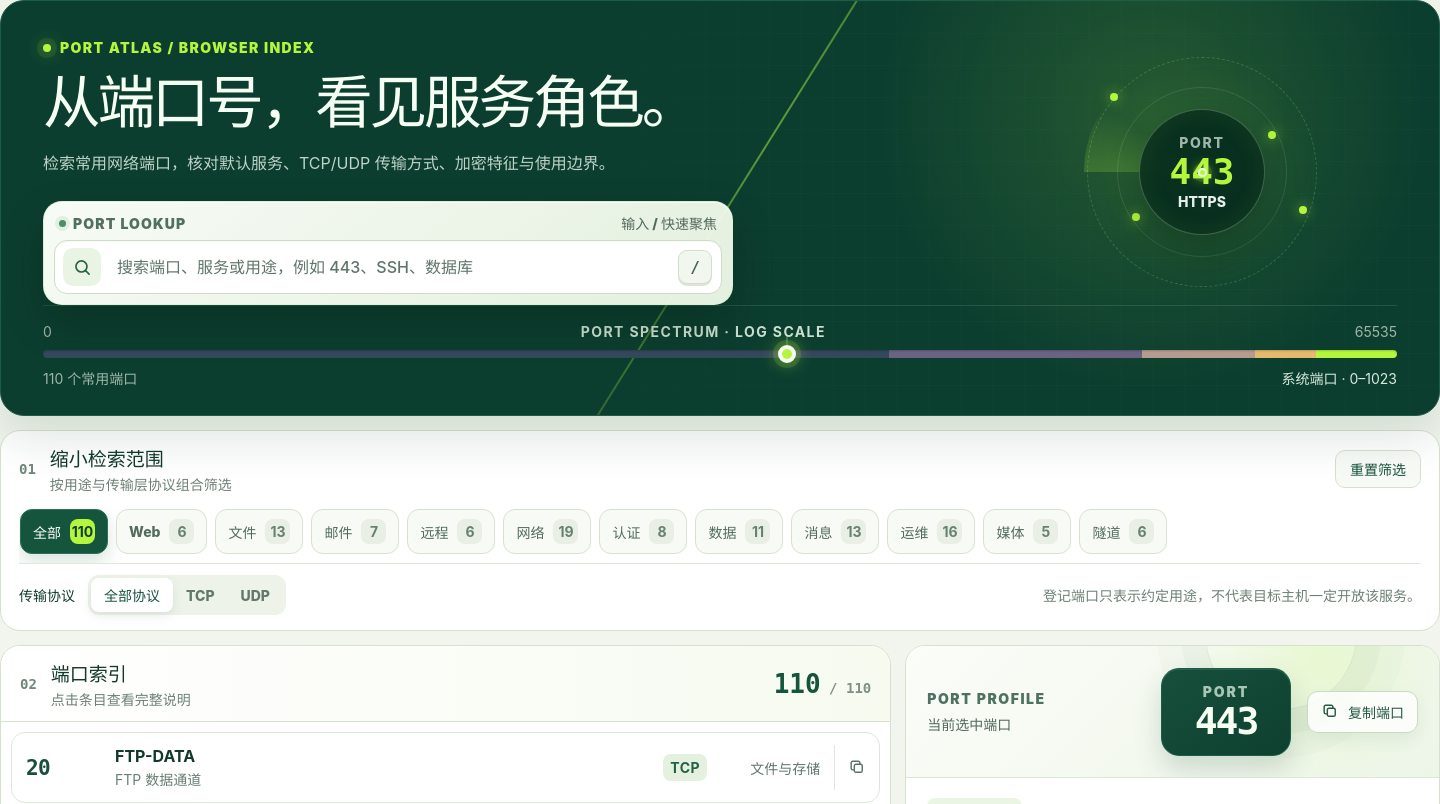
Scenario: CommonPortsTool › focuses search with slash and opens a related port without stale filters
Press /
(page scrolled)
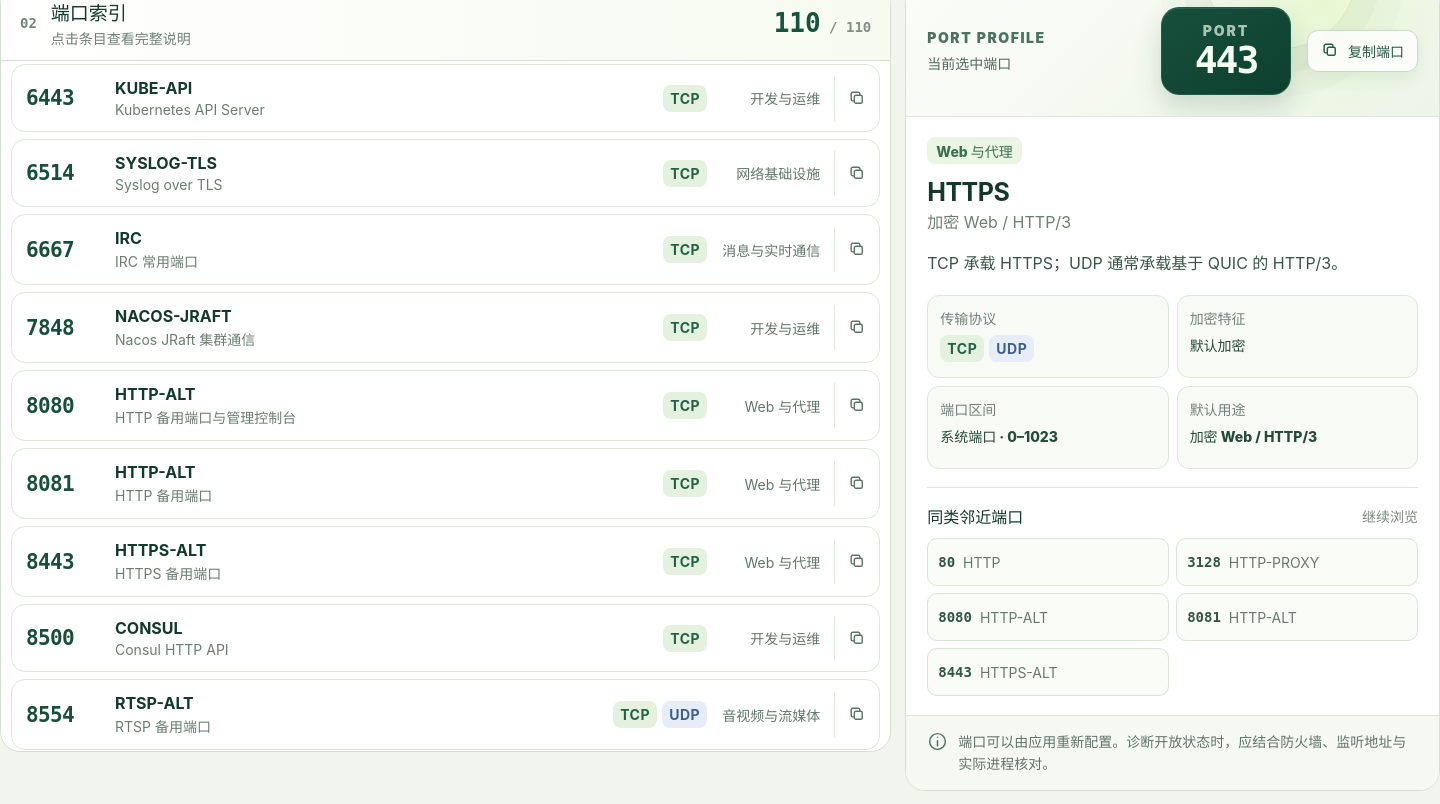
Click the button named "查看端口 8080 HTTP-ALT" at (50, 406), box top-left (12, 371), bottom-right (834, 440)
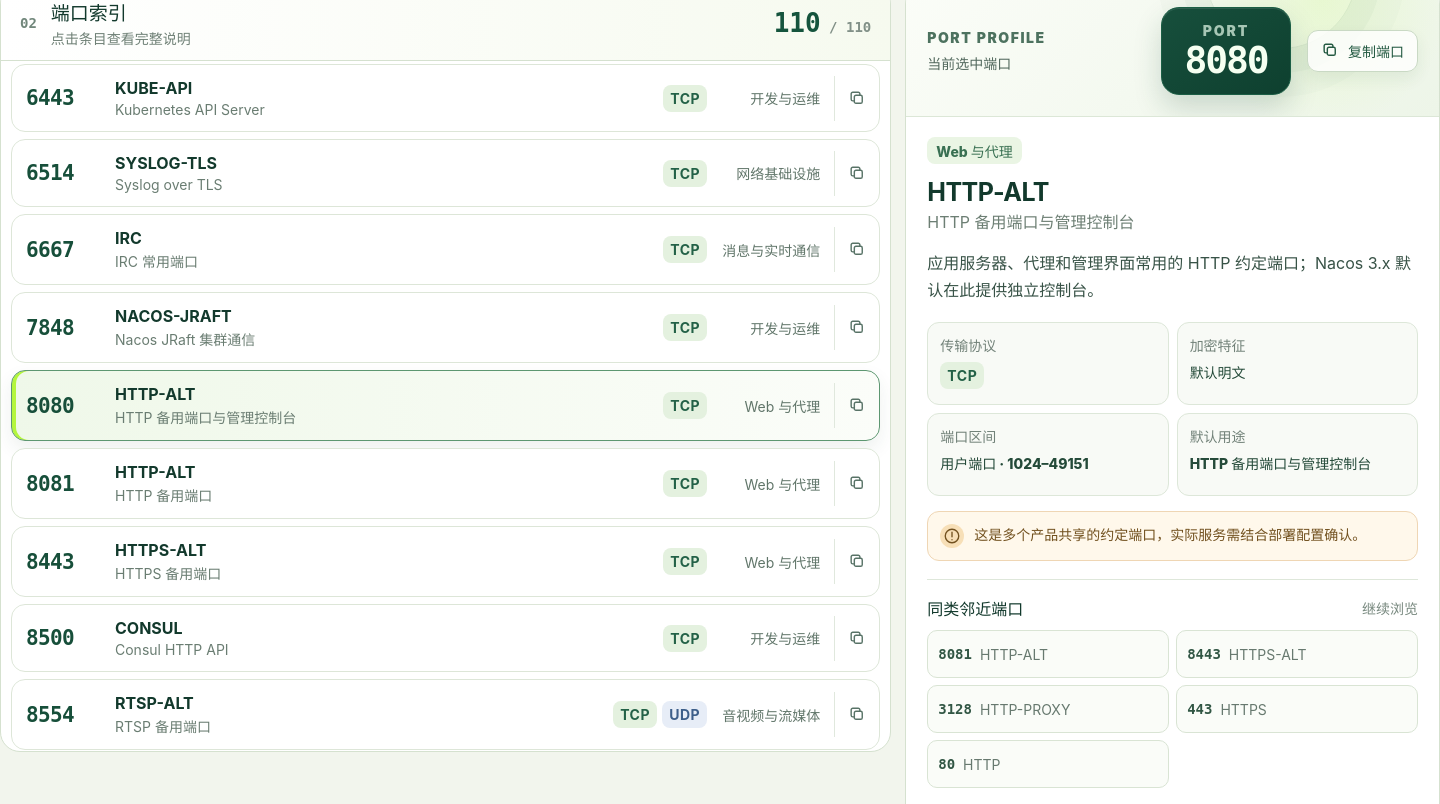
Expected: the heading "HTTP-ALT" is shown, top-left (927, 177), bottom-right (1049, 207)
